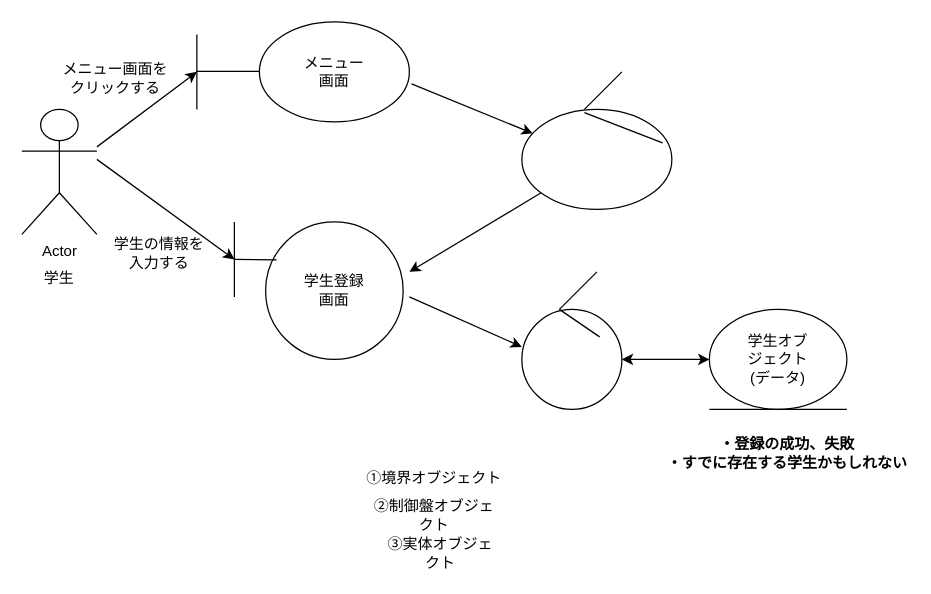
This 931x594 diagram has some shape labels left out. The centre of each missing label's shape, as x and y in pixels:
"学生情報登録" belongs at (571,358).
"表示(する)" belongs at (596,158).
